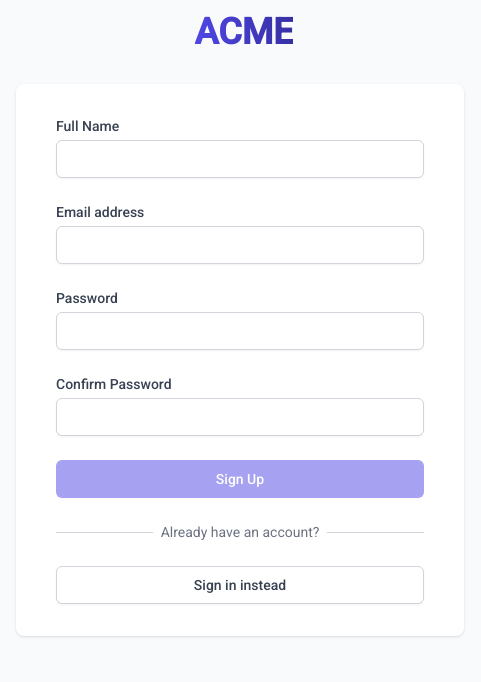
Test case: Sign Up › Form Validation › should validate password match
The image size is (481, 682).
Step 1. Type "Password123!" into the password field named "password" → point(240, 331), box [56,312,424,350]
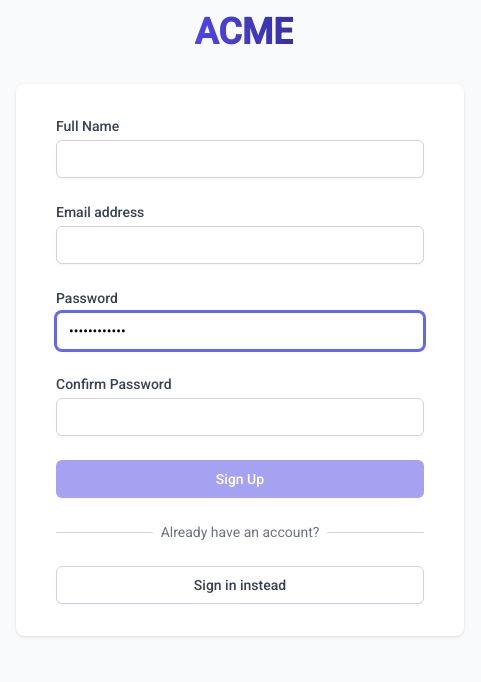
Step 2. Type "different" into the password field named "confirmPassword" → point(240, 417), box [56,398,424,436]
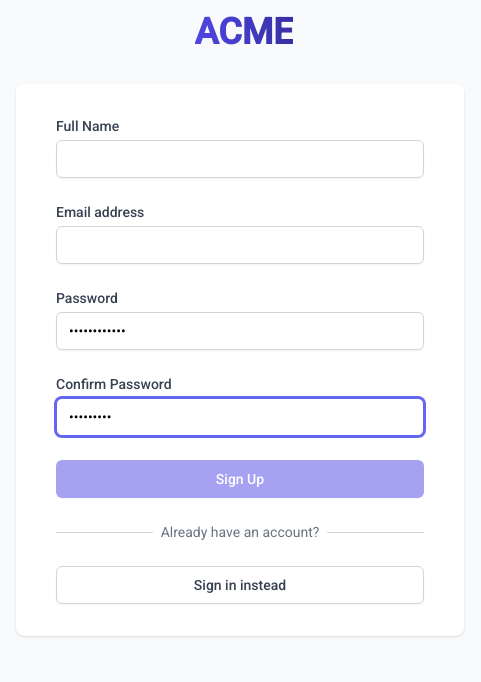
Step 3. Leave the password field named "confirmPassword", box [56,398,424,436]
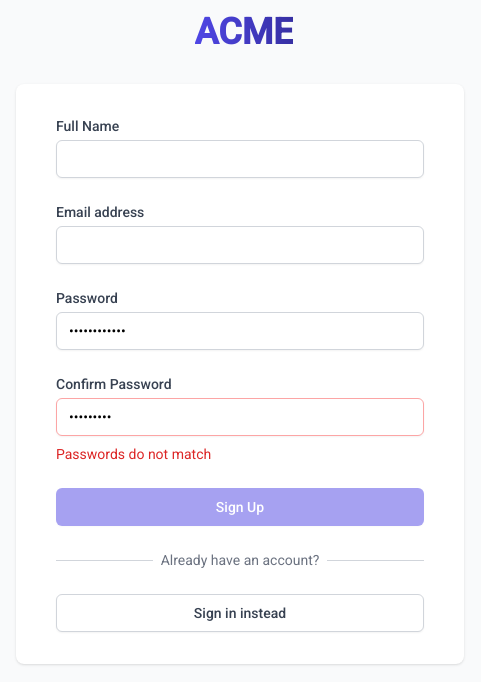
Check: the text "Passwords do not match" is shown, box [56,446,211,462]
